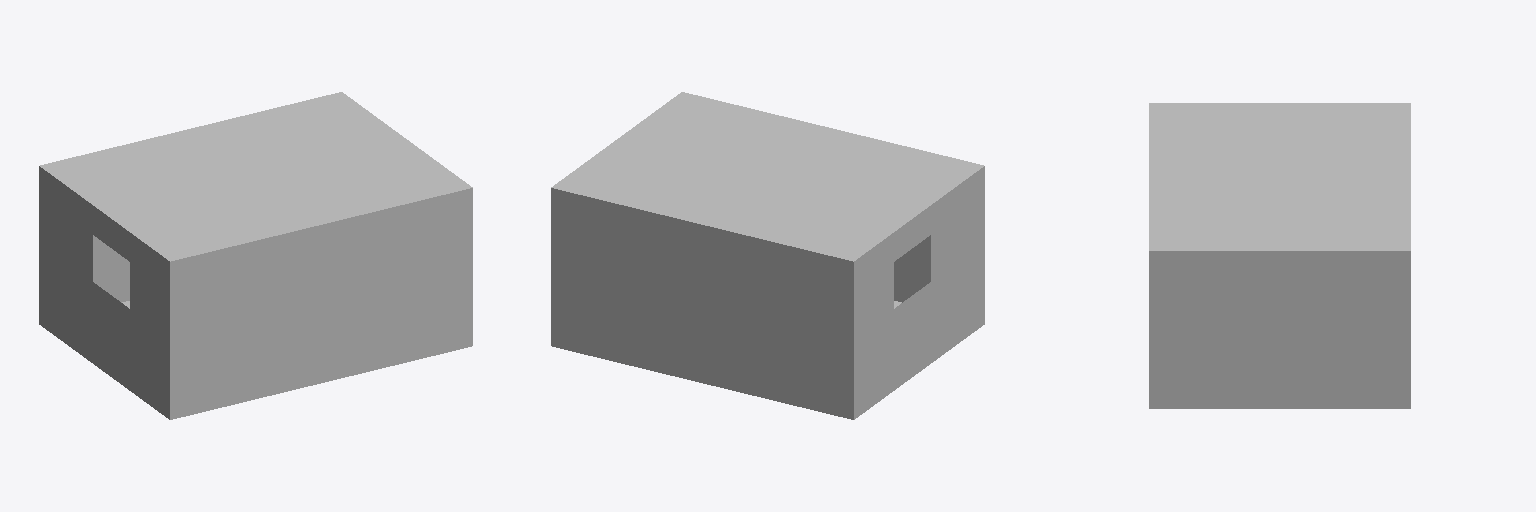
Rendered from room.obj.
3 renders of one model, left to right at view 1: azimuth 30°, elevation 25°; view 2: azimuth 150°, elevation 25°; view 3: azimuth 270°, elevation 25°, orthographic.
Parts seen in each view (by area): view 1: Room_Cube; view 2: Room_Cube; view 3: Room_Cube.
Part boxes in pixels (x1,y1,x2,y2): Room_Cube: (39,92,472,419); Room_Cube: (551,92,984,419); Room_Cube: (1149,103,1410,408).
Size of the model in its own units: 4.4 by 2.2 by 3.3.